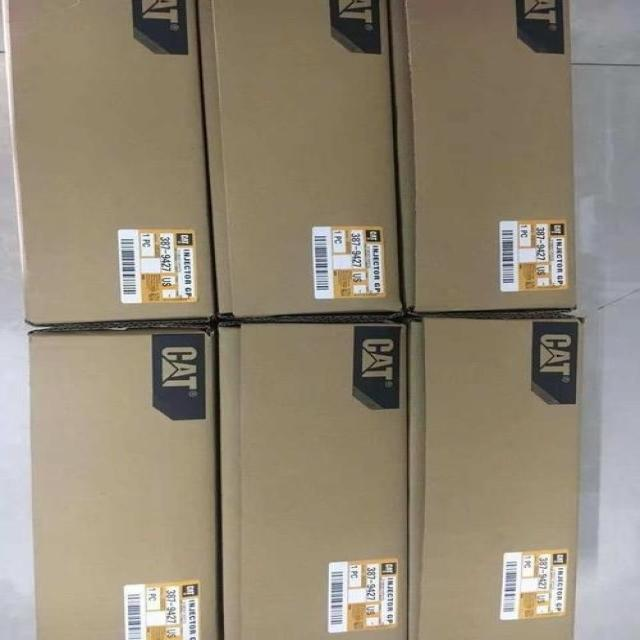box: (6, 0, 214, 324), (198, 1, 402, 317), (221, 316, 407, 640), (31, 320, 219, 639), (389, 0, 575, 314), (407, 313, 581, 638)
